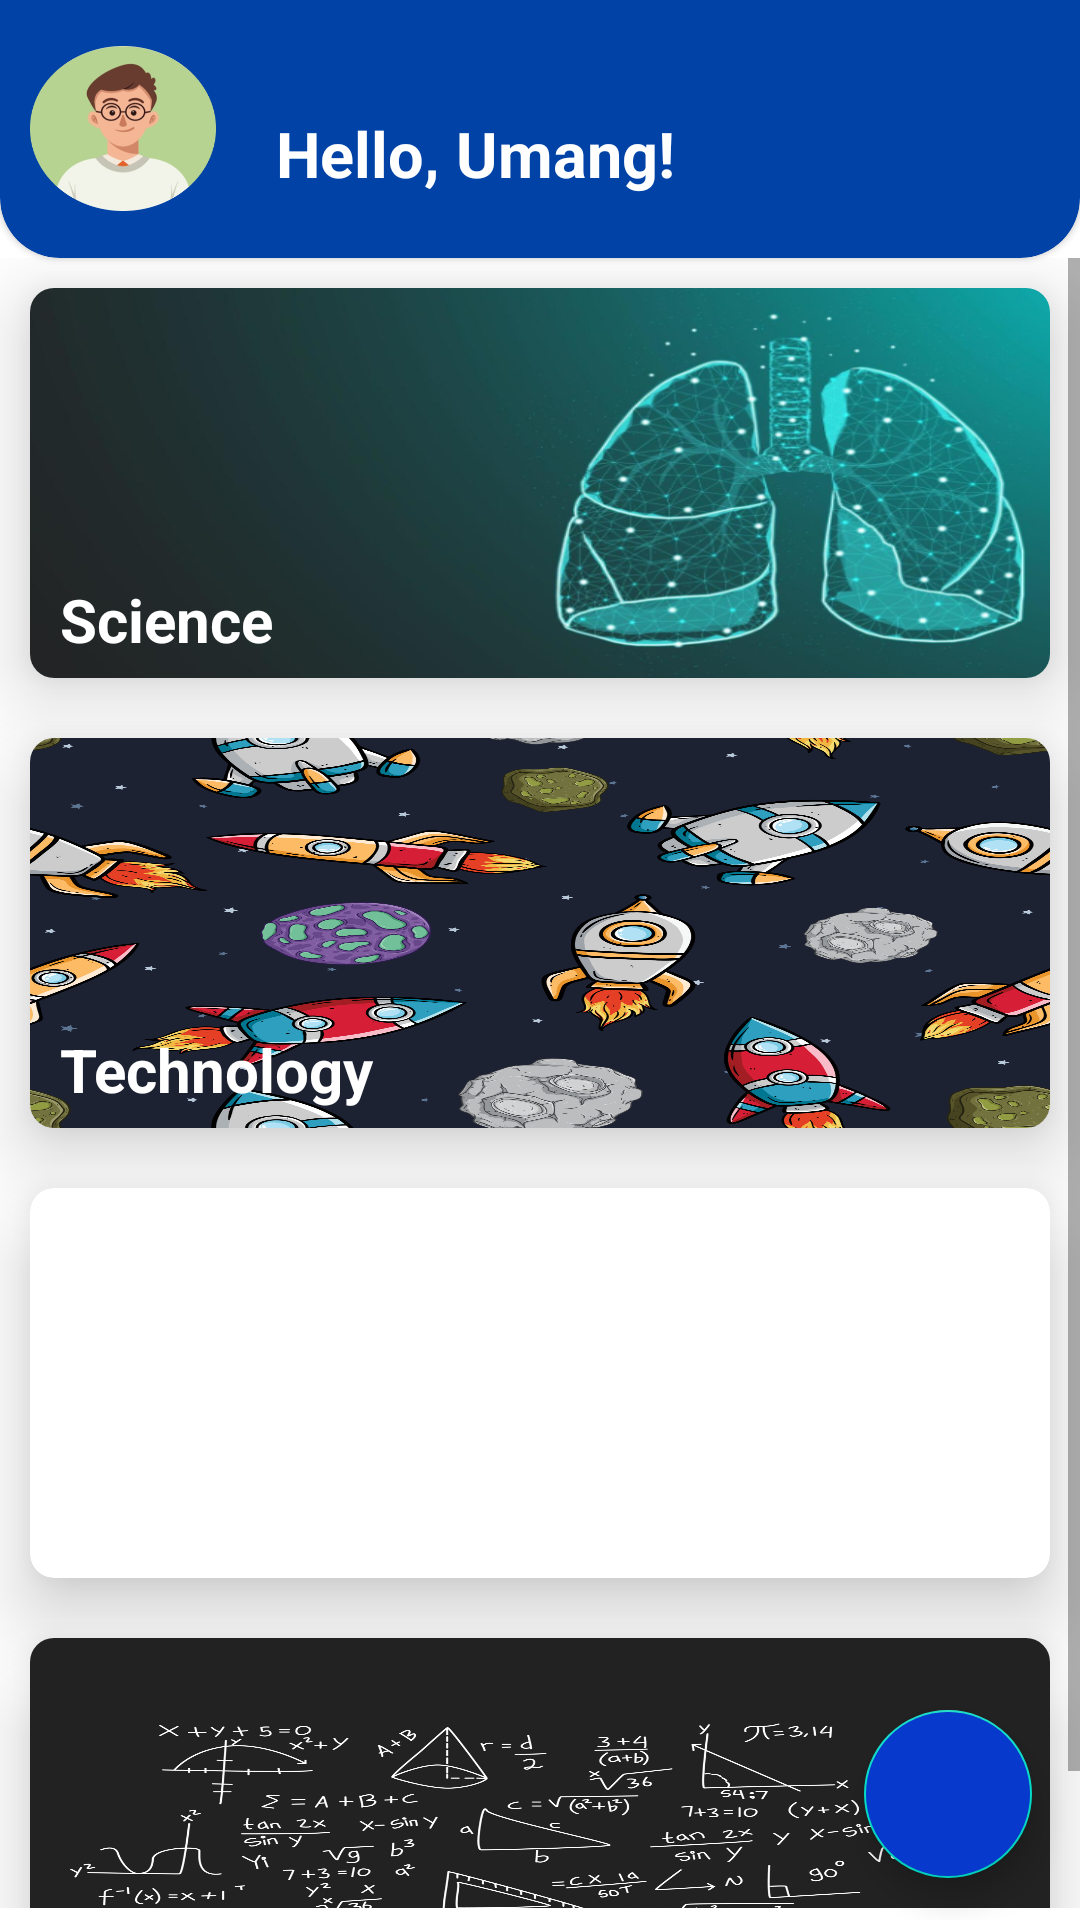

Screen size 1080*1920. Icon name, then its center in pixels as (x,y):
profile: (123,128)
